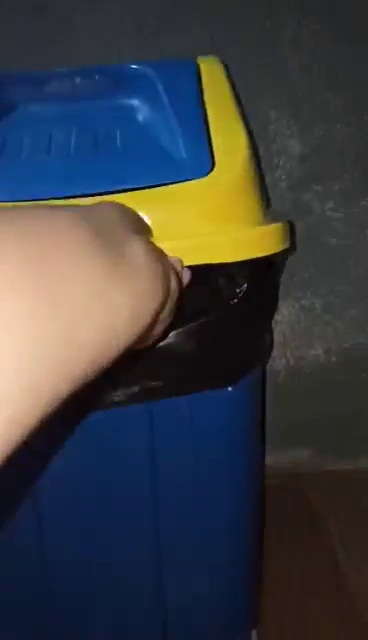garbagebin: (1, 52, 294, 640)
